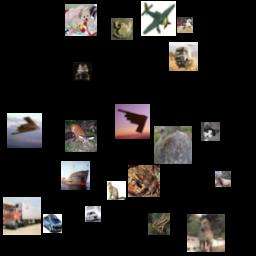airplane: (115, 104, 150, 139), (141, 1, 176, 36), (7, 113, 42, 148)
automobile: (43, 214, 62, 233), (85, 206, 101, 222)
bird: (154, 126, 192, 164)
cat: (107, 181, 126, 200), (201, 122, 220, 141)
deer: (65, 120, 97, 152), (215, 171, 231, 187)
dog: (65, 4, 97, 36)
frog: (128, 165, 160, 197), (111, 18, 133, 40), (148, 213, 170, 235), (73, 62, 92, 81)
ship: (61, 161, 90, 190)
truck: (3, 197, 41, 235), (169, 42, 198, 71)
